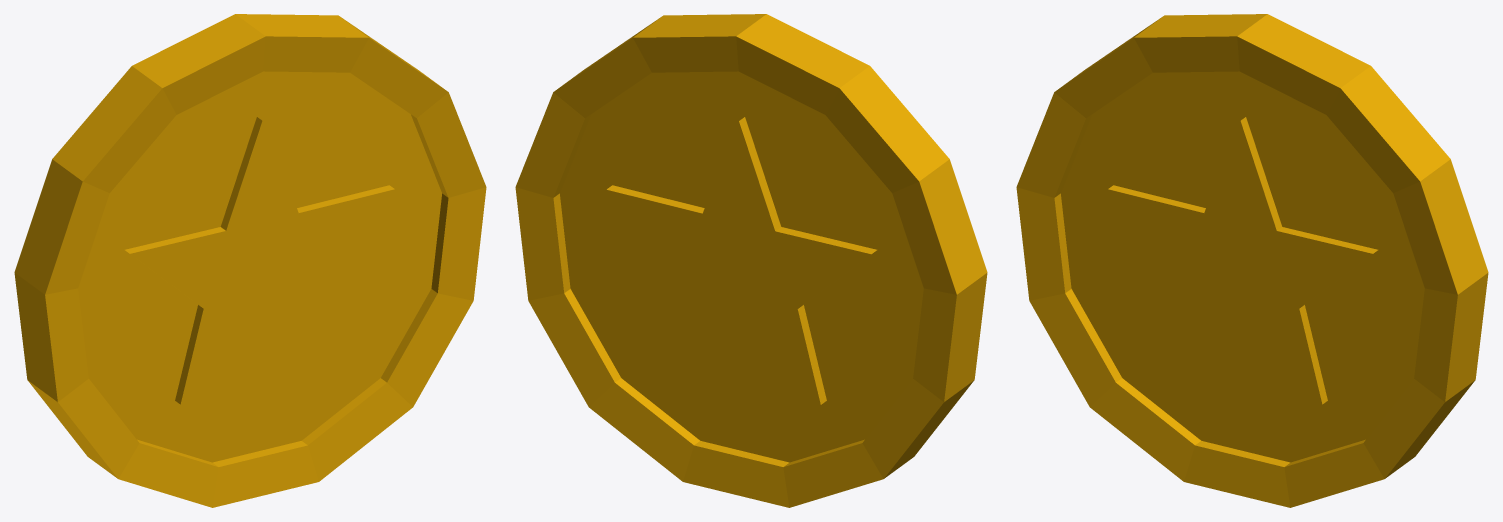
File: coin.fbx
The picture shows the model from 3 angles, left to right: view 1: azimuth 30°, elevation 25°; view 2: azimuth 150°, elevation 25°; view 3: azimuth 330°, elevation 25°; orthographic projection.
Visible parts, largest first — view 1: Cylinder; view 2: Cylinder; view 3: Cylinder.
Boxes of the visible parts, x1,y1,x2,y2 form: Cylinder: [14, 14, 486, 507]; Cylinder: [515, 14, 987, 507]; Cylinder: [1016, 14, 1488, 507].
Size of the model in its own units: 64.88 by 64.4 by 7.79.
